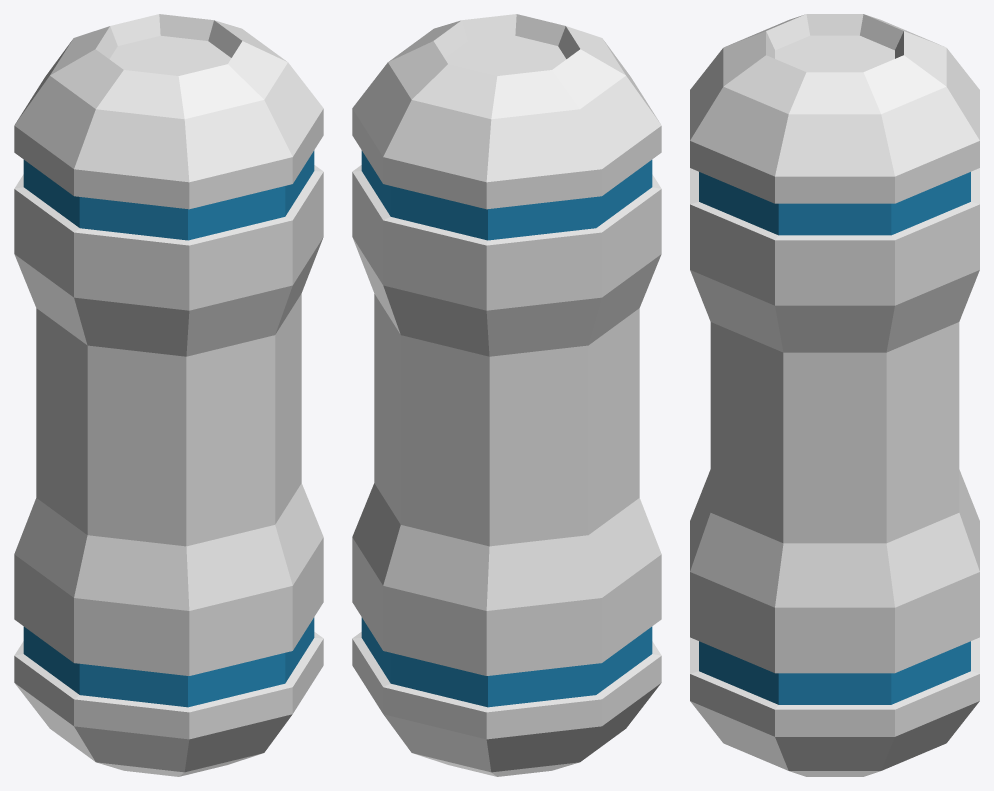
Rendered from Props_Vessel.001.fbx.
The picture shows the model from 3 angles, left to right: view 1: azimuth 30°, elevation 25°; view 2: azimuth 150°, elevation 25°; view 3: azimuth 270°, elevation 25°; orthographic projection.
Visible parts, largest first — view 1: Props_Vessel.001; view 2: Props_Vessel.001; view 3: Props_Vessel.001.
Part boxes in pixels (box(x1,y1,x2,y2)): Props_Vessel.001: box(14, 14, 323, 776); Props_Vessel.001: box(352, 14, 661, 776); Props_Vessel.001: box(690, 14, 979, 776).
Size of the model in its own units: 0.2873 by 0.7705 by 0.2873.
